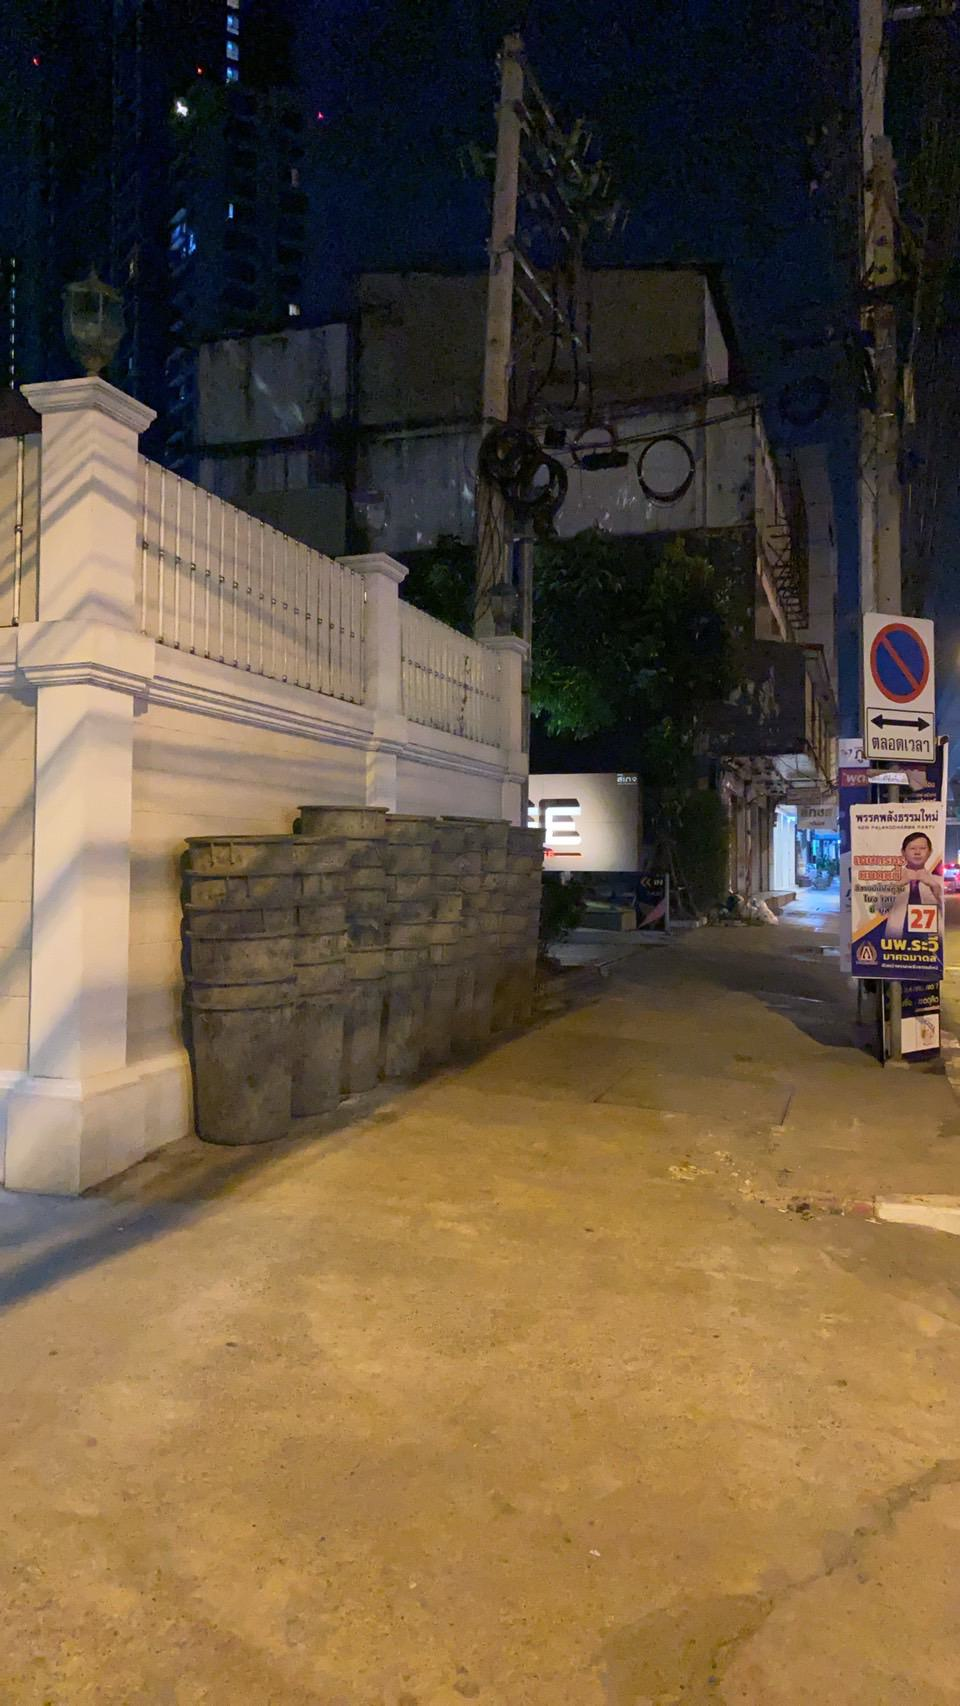Banner: (844, 769, 952, 992)
